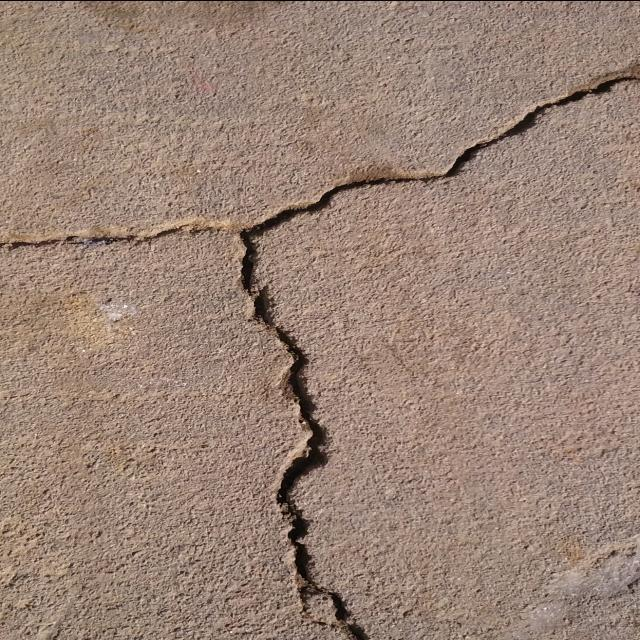Crack: (240, 77, 640, 640), (0, 223, 235, 249)
